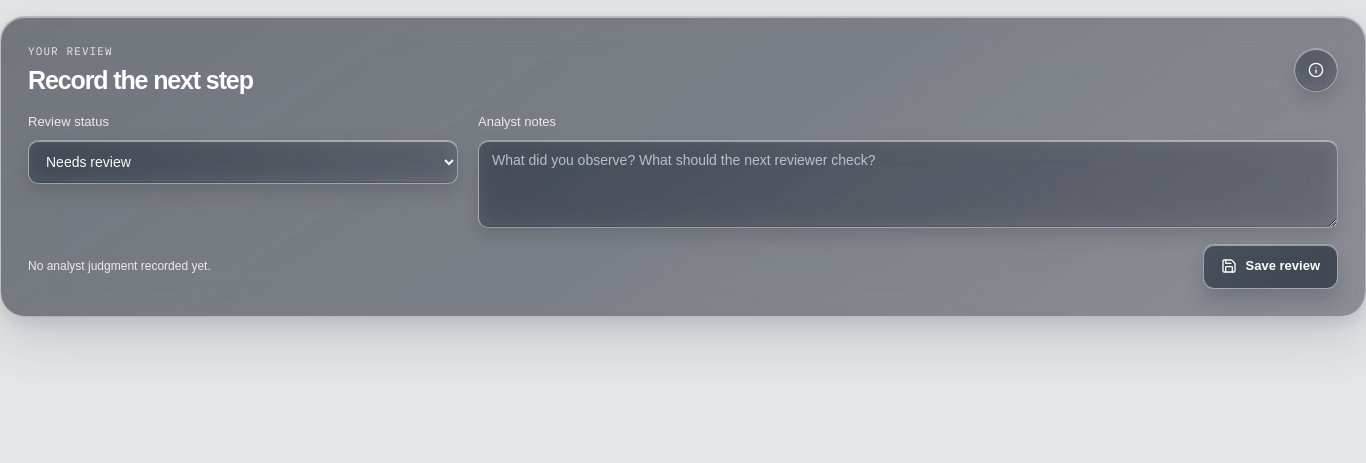
Test: preserves a draft when another analyst has changed the saved version
This screenshot has width=1366, height=463.
Type "Keep my draft" into the text box labelled "Analyst notes" at (908,184), box [478,140,1338,228]
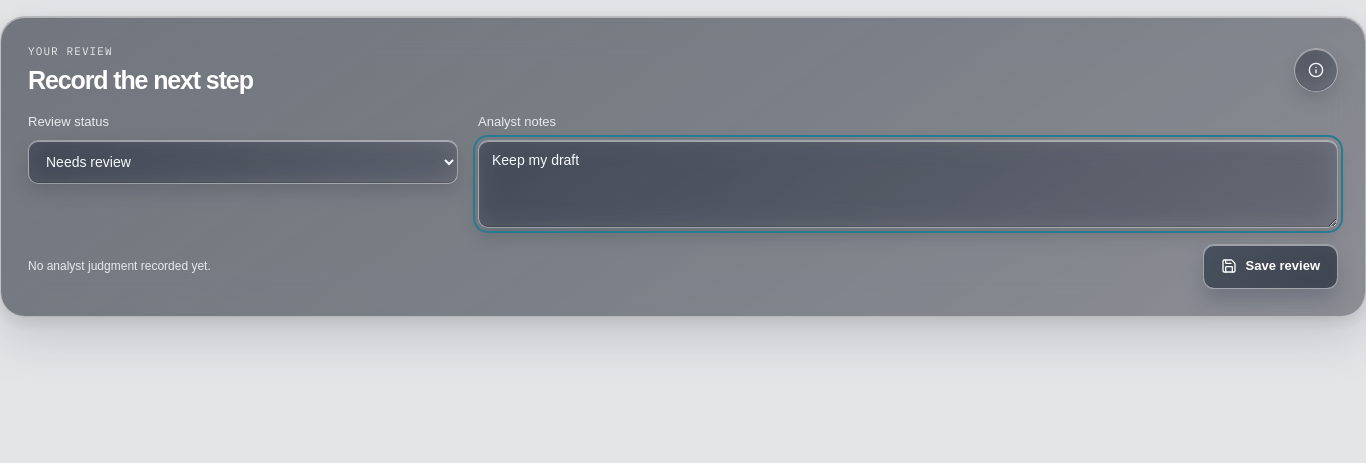
Click the button "Save review" at (1270,266), box [1202,244,1338,288]
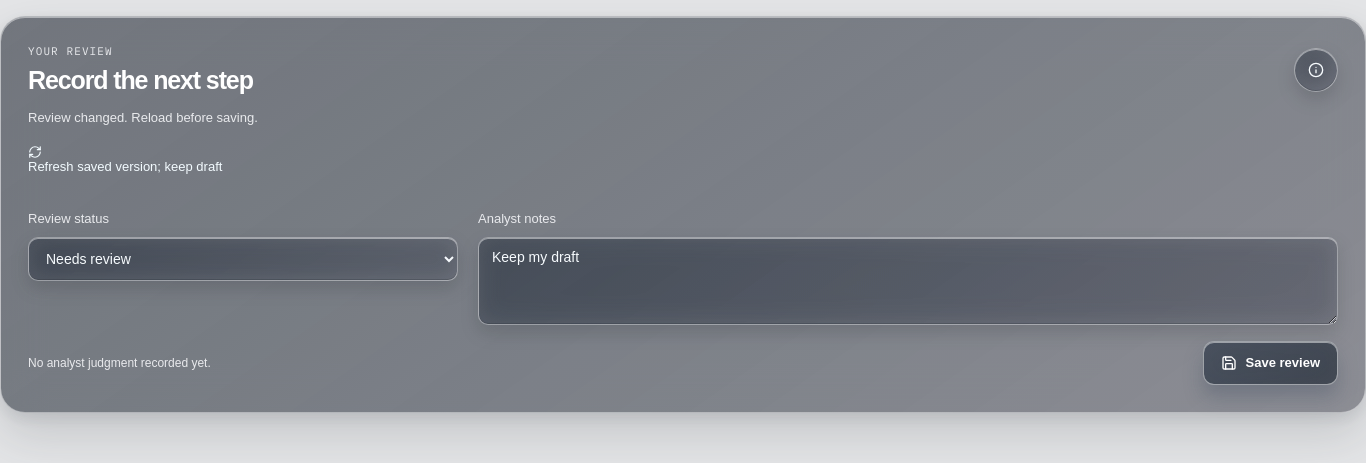
Expected: the message shows "Review changed", [28,110,258,125]
